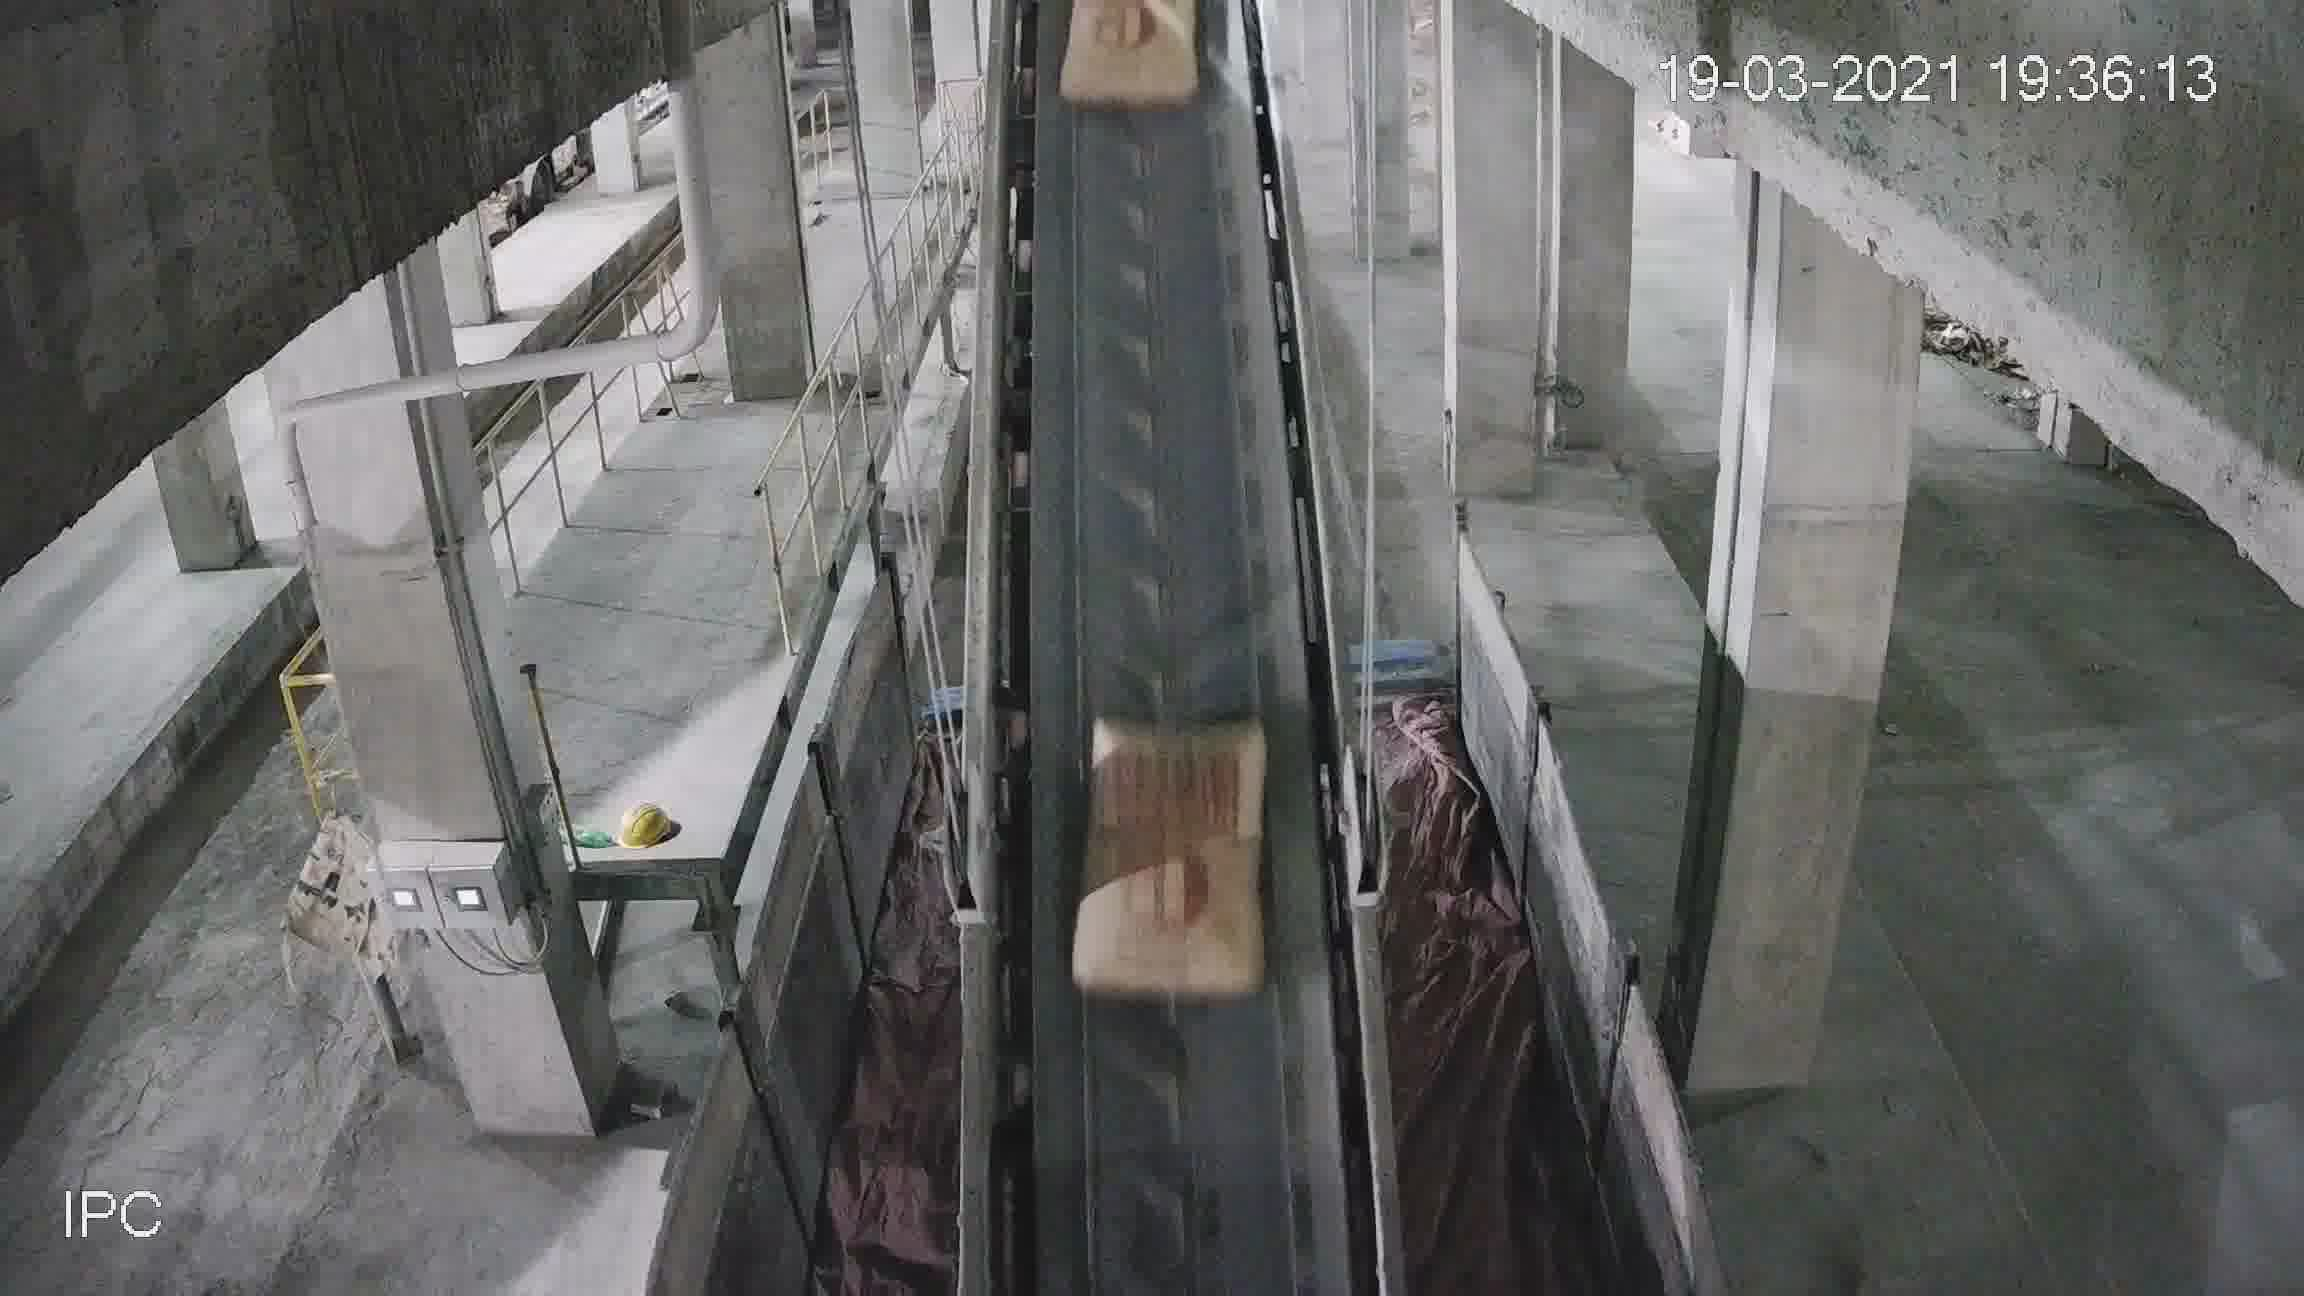bag: (1079, 718, 1264, 1003), (1062, 24, 1203, 101)
belt: (964, 147, 1350, 1296)
